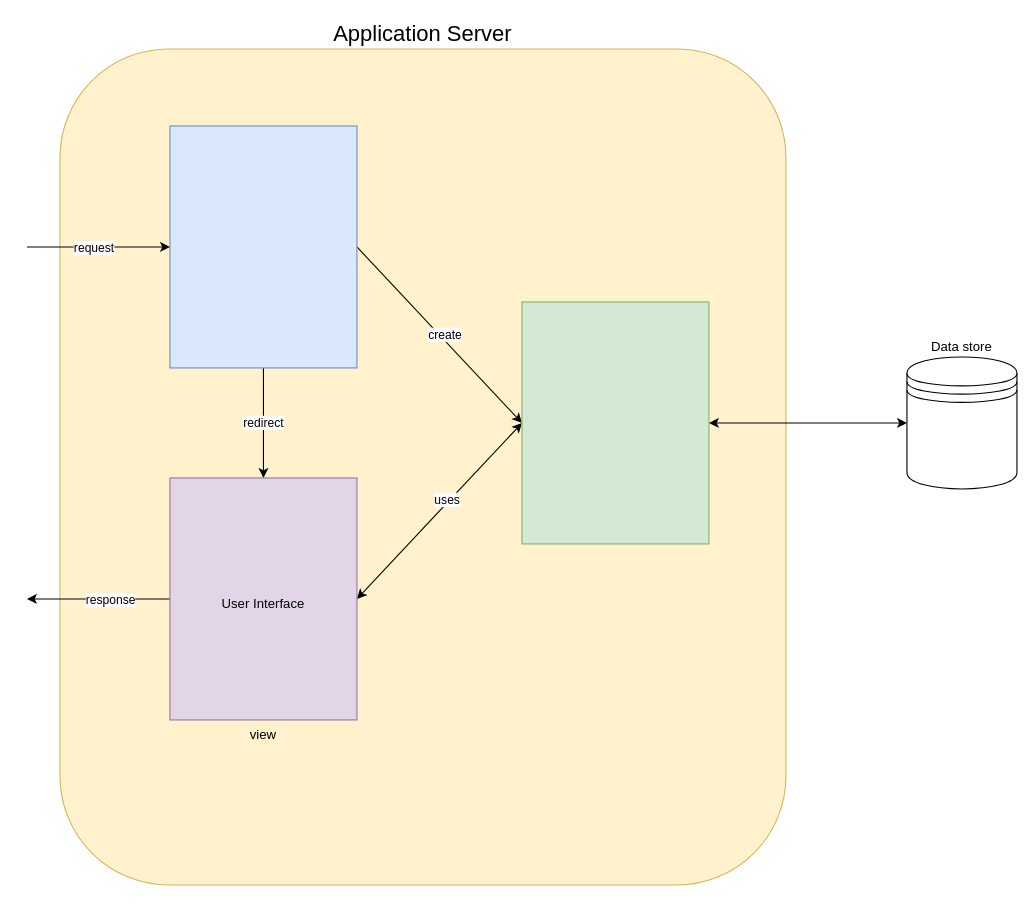
Image size: 1036x904. Some labels were removed from this diagram. The shapes that lost their labels are listed below. From the top down, each one's centre as x and y in pixels, then its label:
At (x=263, y=246): "controller".
At (x=615, y=422): "model".
